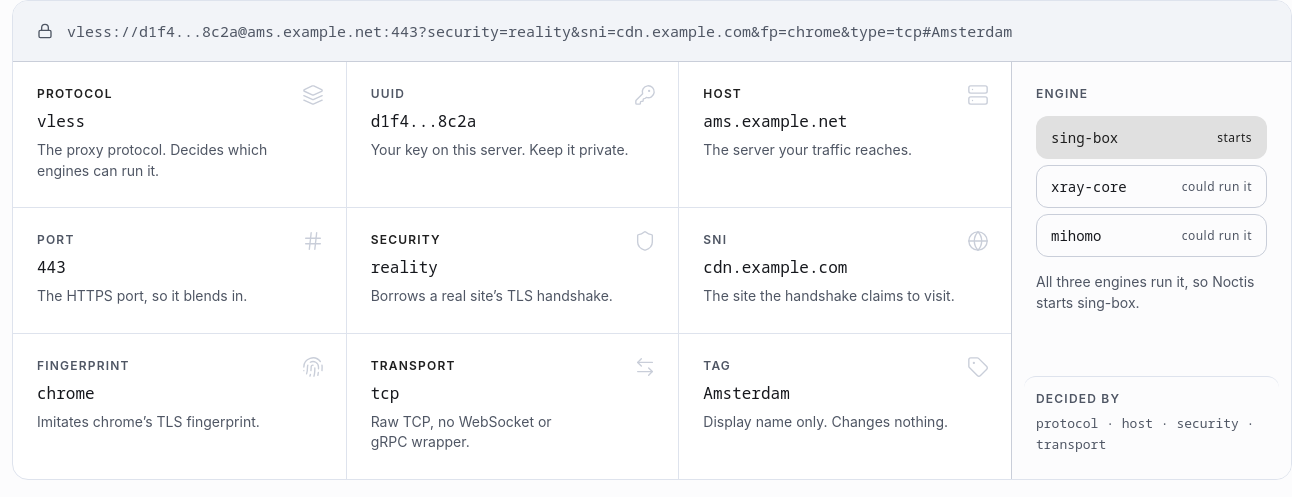
LinkAnatomy › names what decided the engine, off the link rather than out of a list
Check: the element that starts with "Engine" shows "protocol · host · security · transport", box [1024,376,1279,467]
Note: A link with no security parameter has three, and the rail says three.
Clear the field named "Proxy share link" at (667, 31), box [67,7,1267,55]
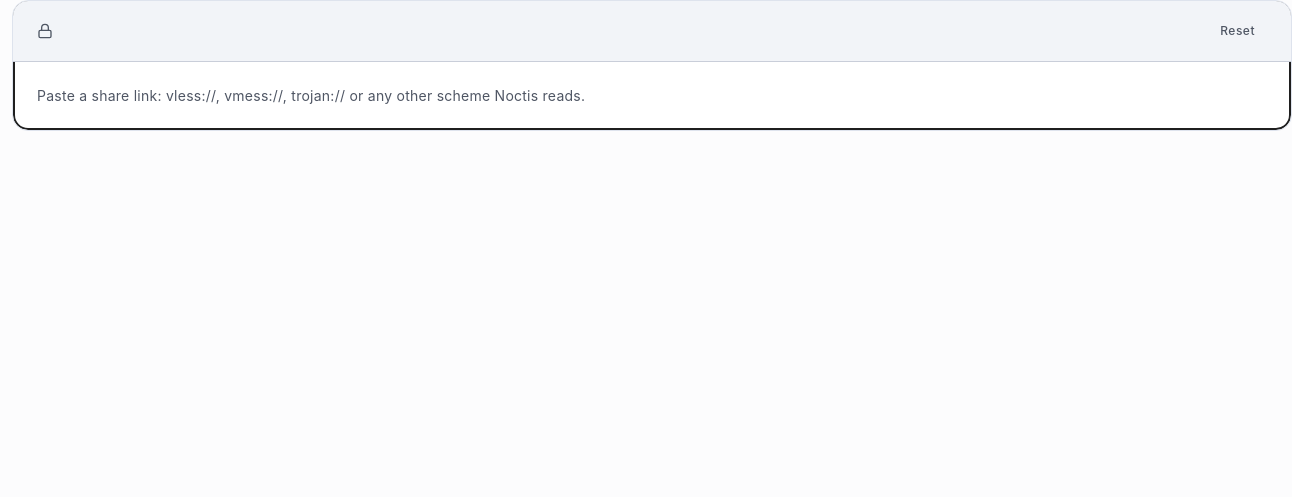
Type keys "trojan://pw@relay.example.org:8443?type=ws"
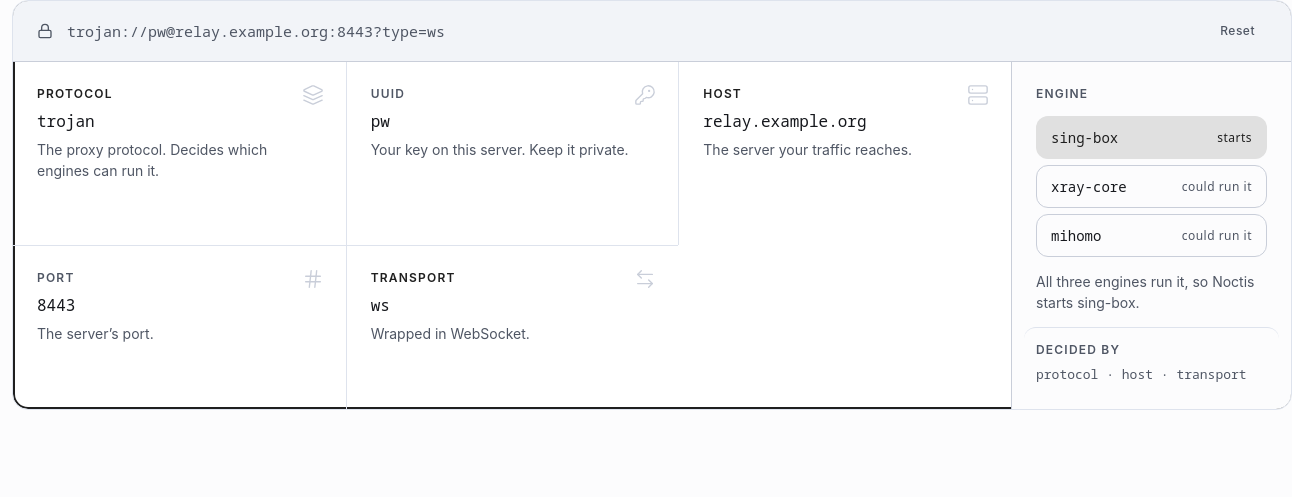
Check: the element that starts with "Engine" shows "protocol · host · transport", box [1024,327,1279,397]
